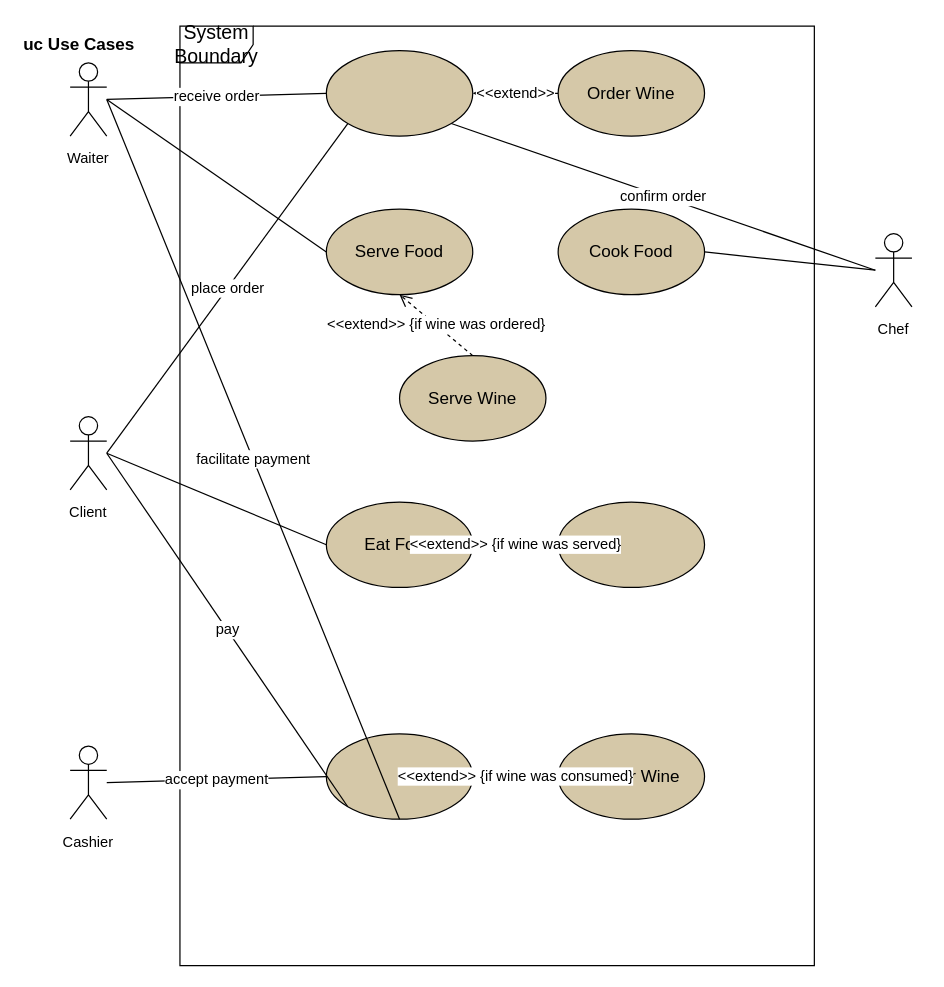
Some shapes in this 944 by 987 pixel diagram are drawn without their labels. The centre of each missing label's shape, as x and y in pixels:
"Drink Wine" goes at point 631,544.
"Order Food" goes at point 399,92.
"Pay for Food" goes at point 399,776.
